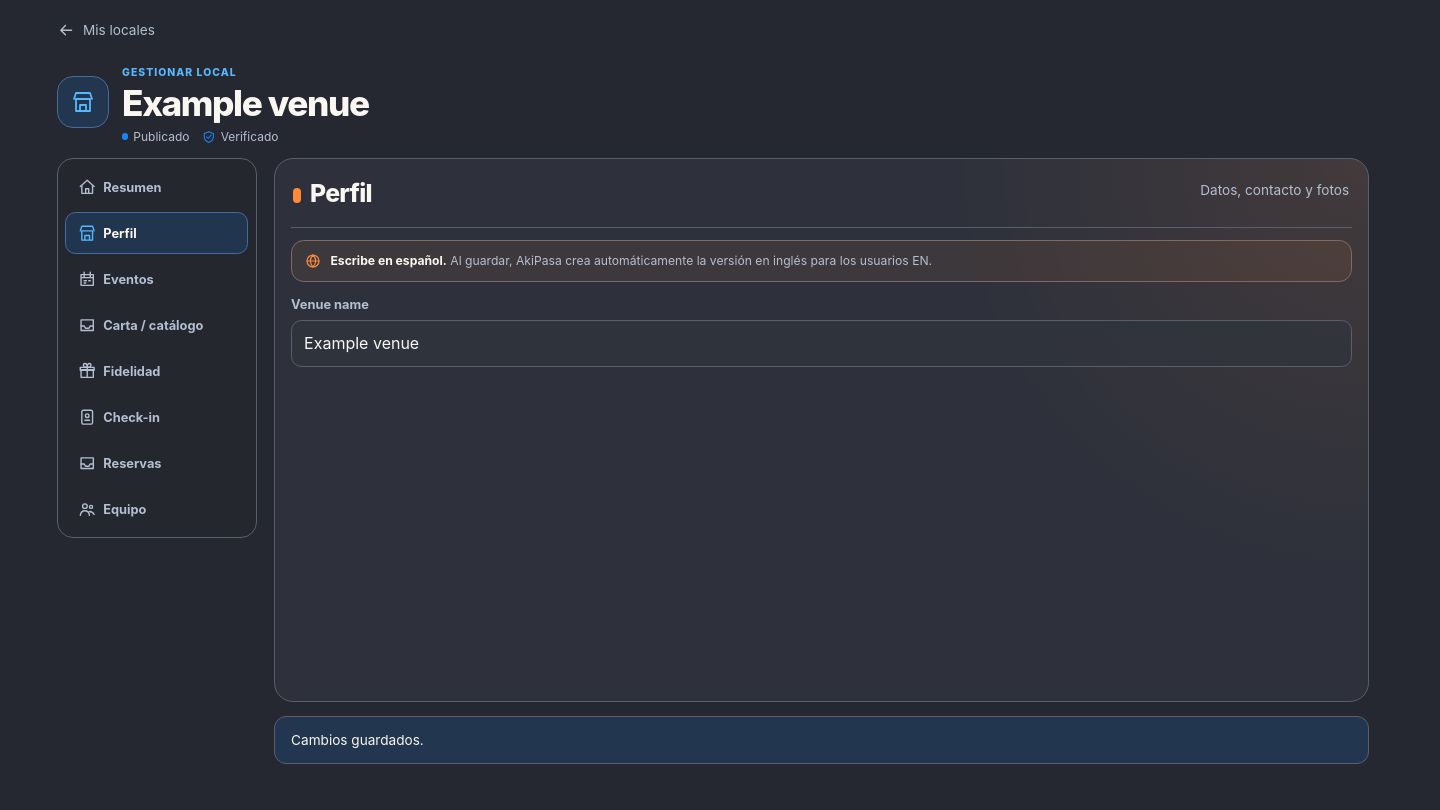
compact venue dashboard › localizes navigation and displays save feedback in the selected section
The width and height of the screenshot is (1440, 810).
Expected: the message reads "Cambios guardados.", top-left (291, 732), bottom-right (424, 748)
Click the tab "Reservas".
click(156, 463)  # box top-left (65, 442), bottom-right (248, 484)
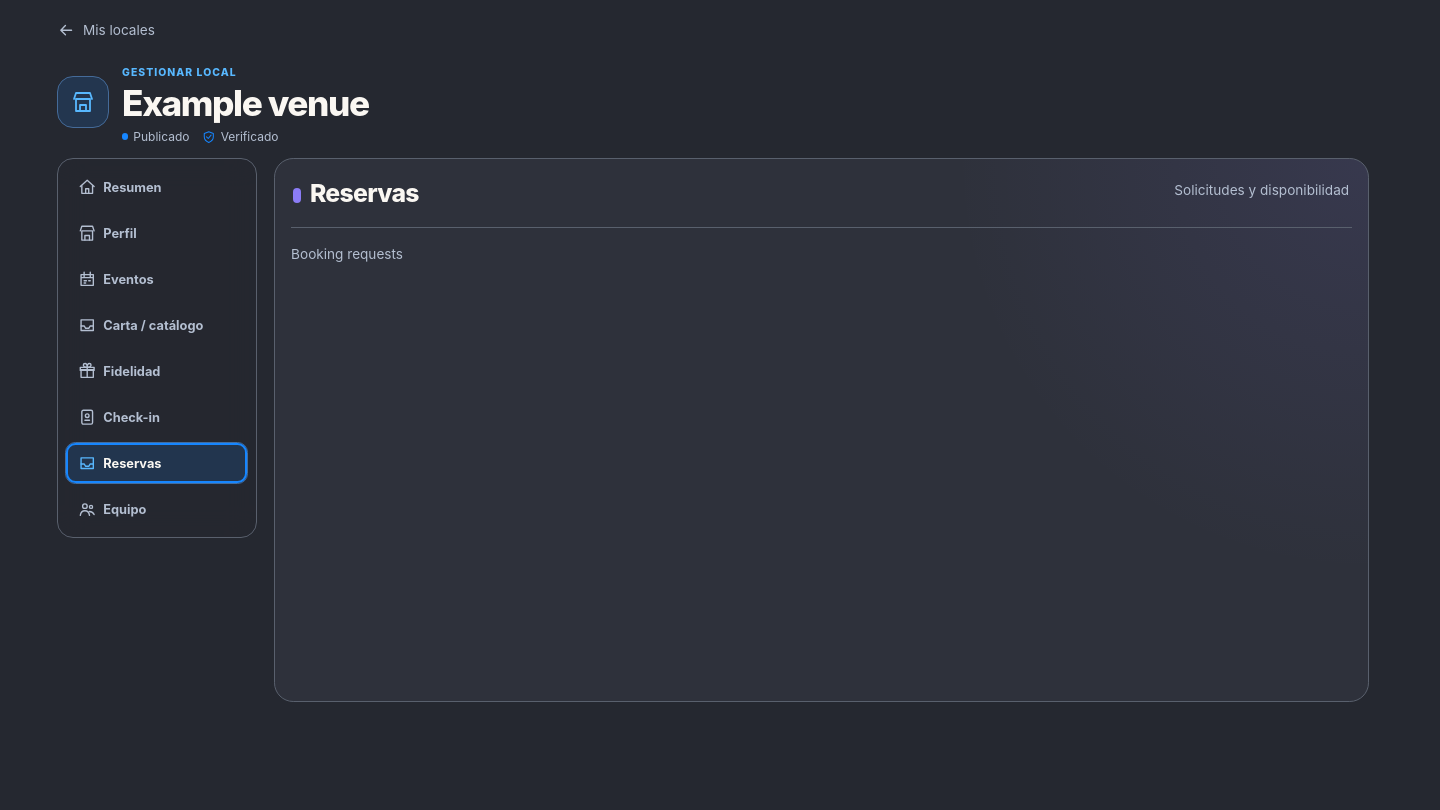
Expected: the message "Cambios guardados." is gone
